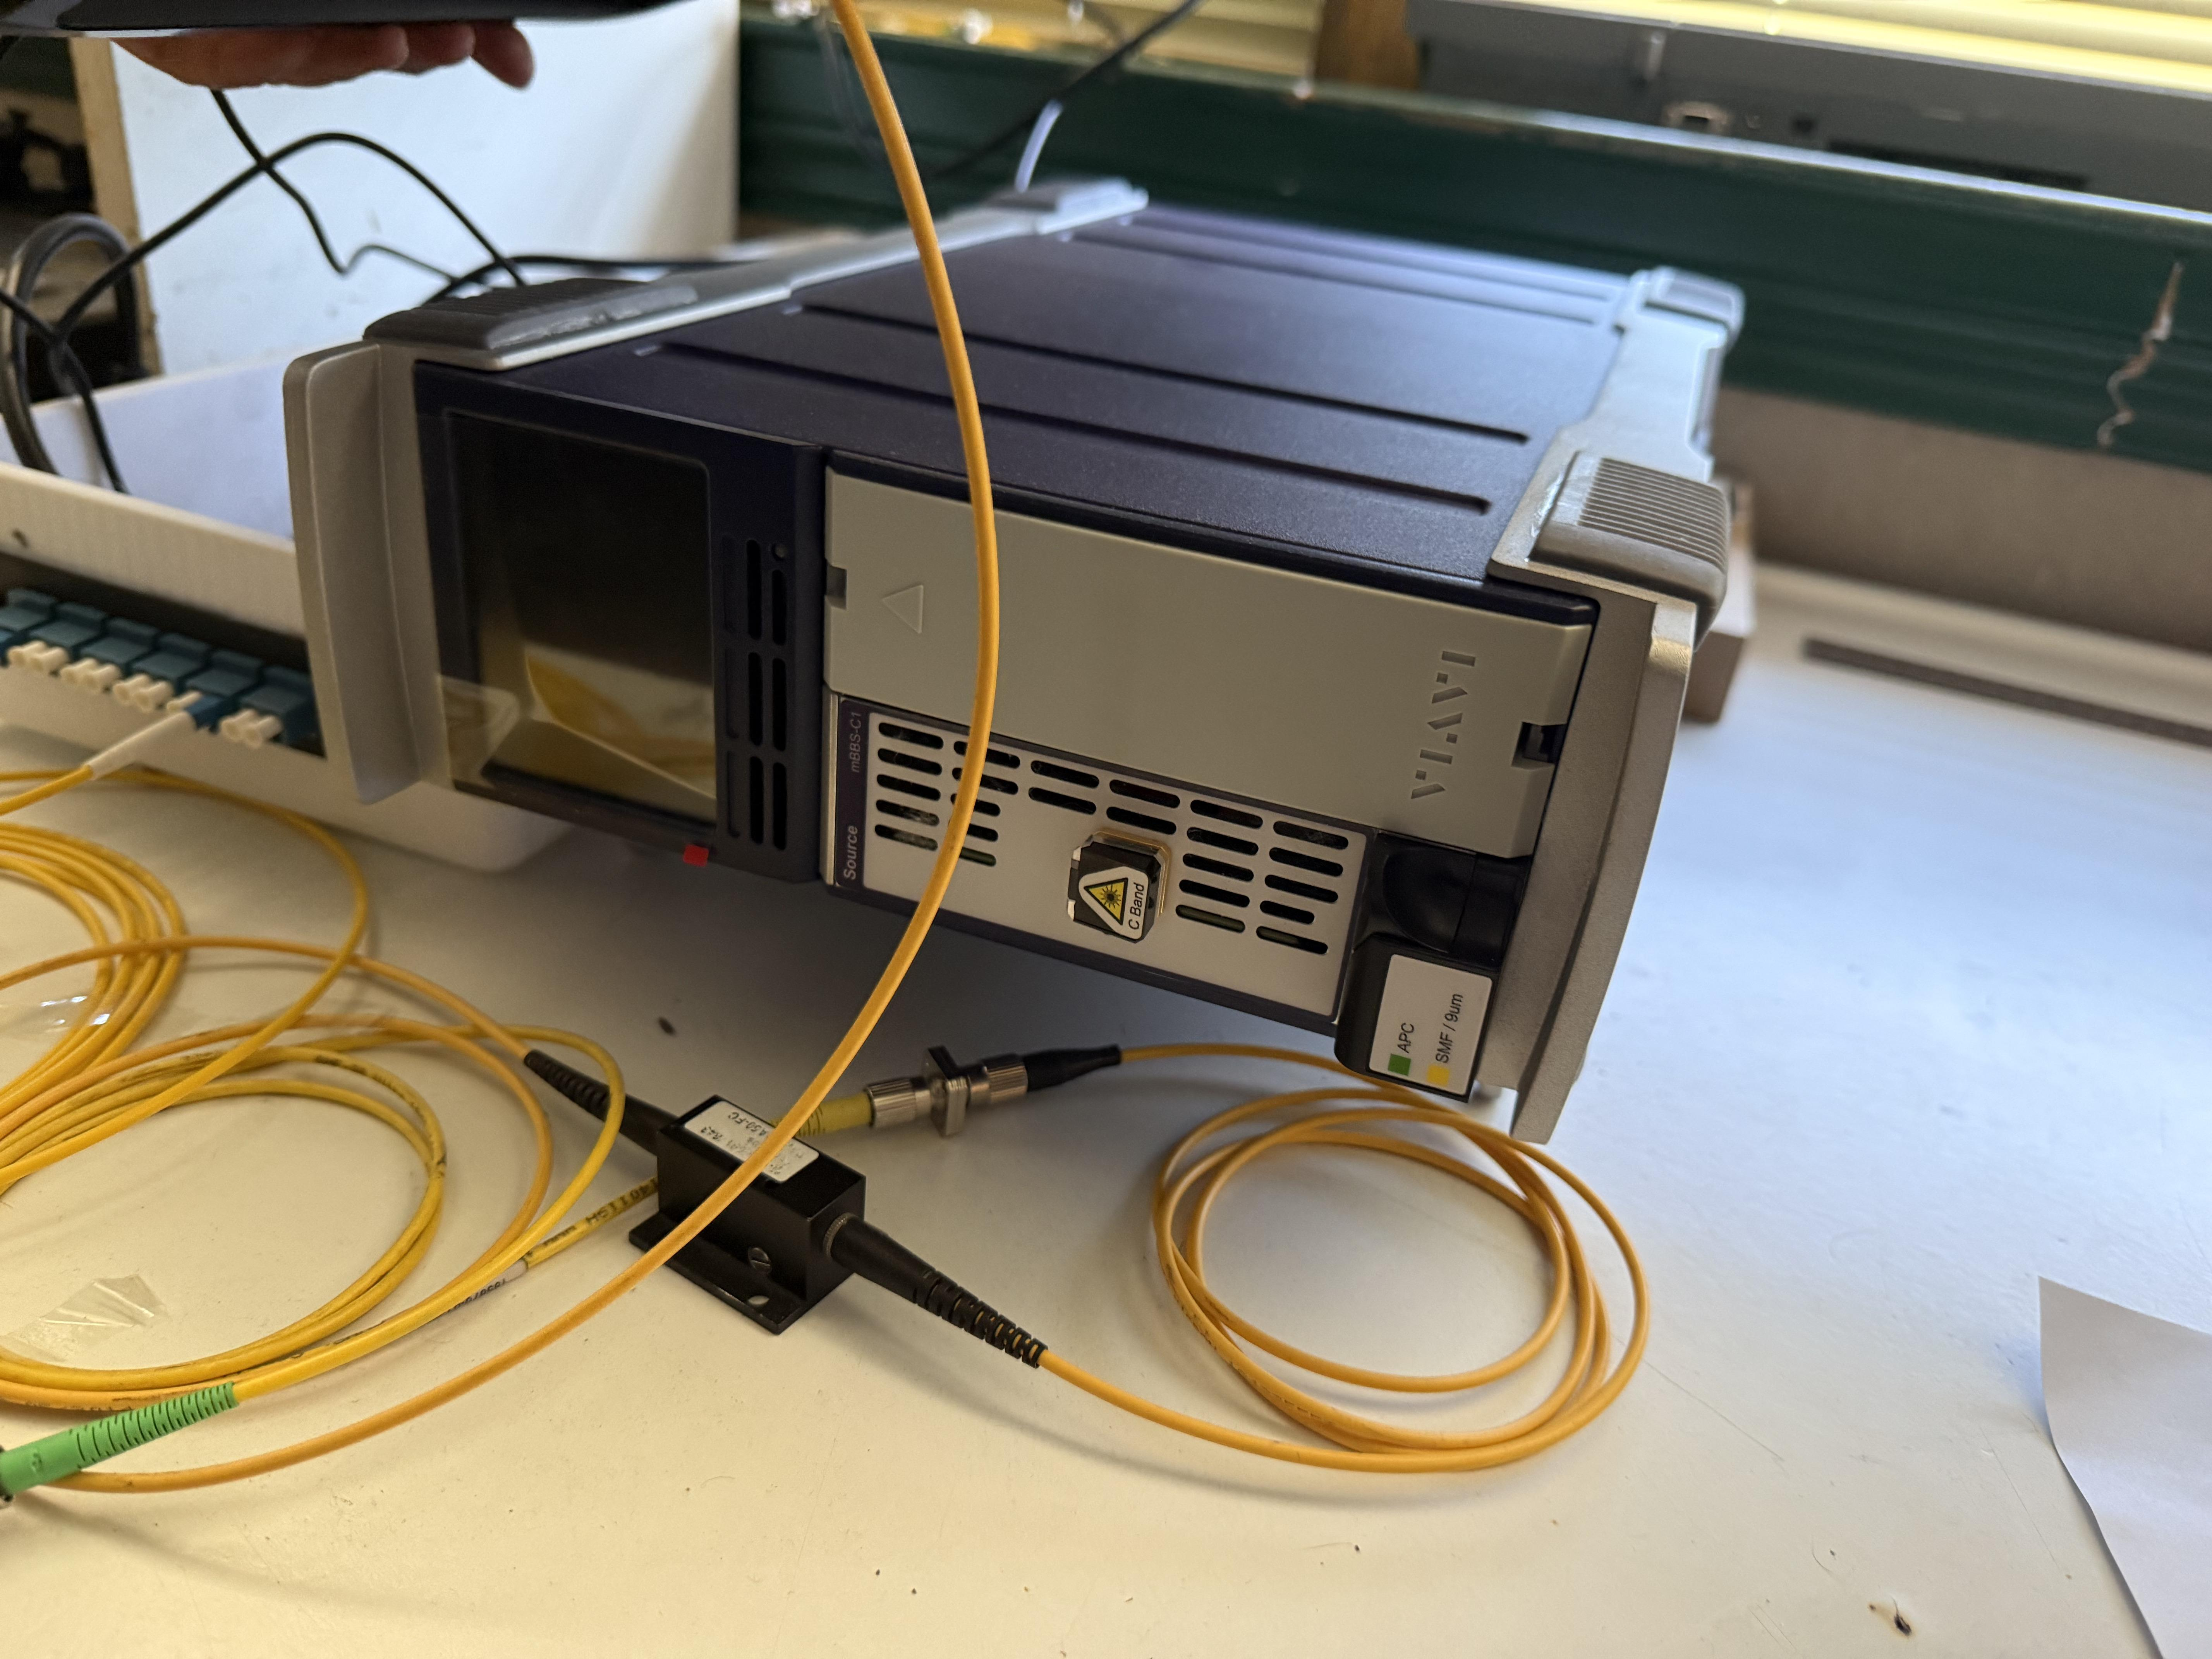fiber_cable: (0, 746, 1709, 1520)
laser: (270, 152, 1782, 1208)
